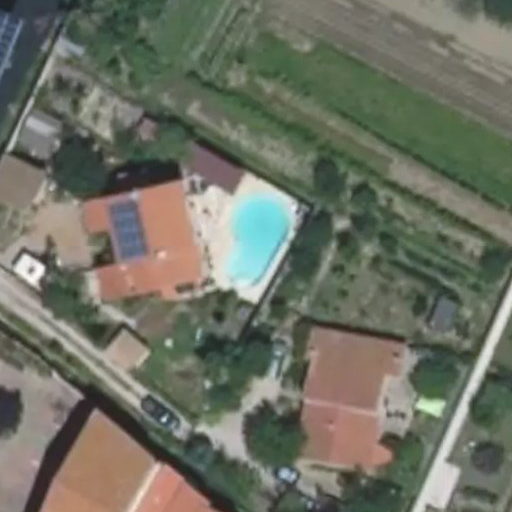pool: (220, 194, 284, 291)
